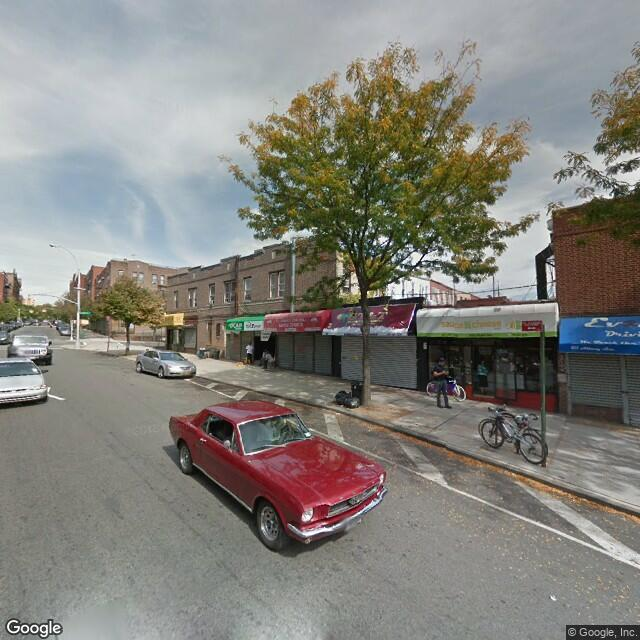litter: (335, 386, 372, 410)
